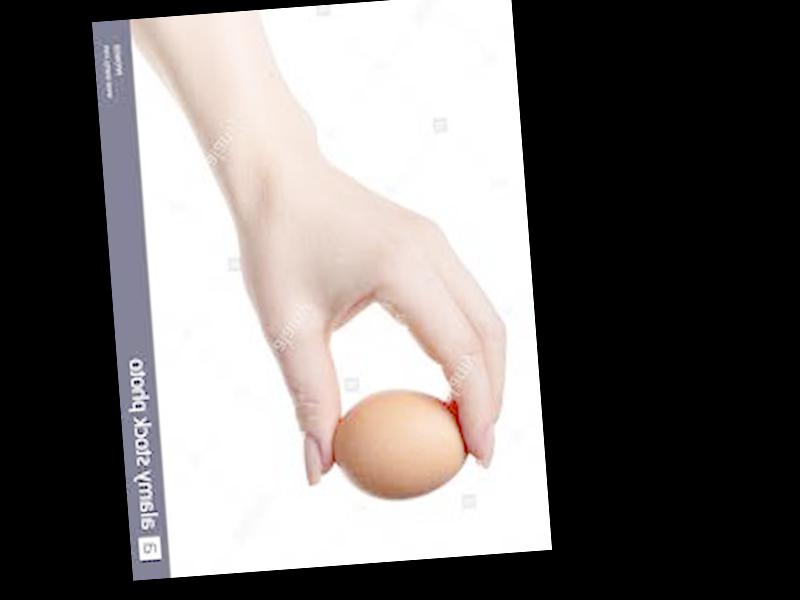Eggs: (329, 379, 471, 505)
